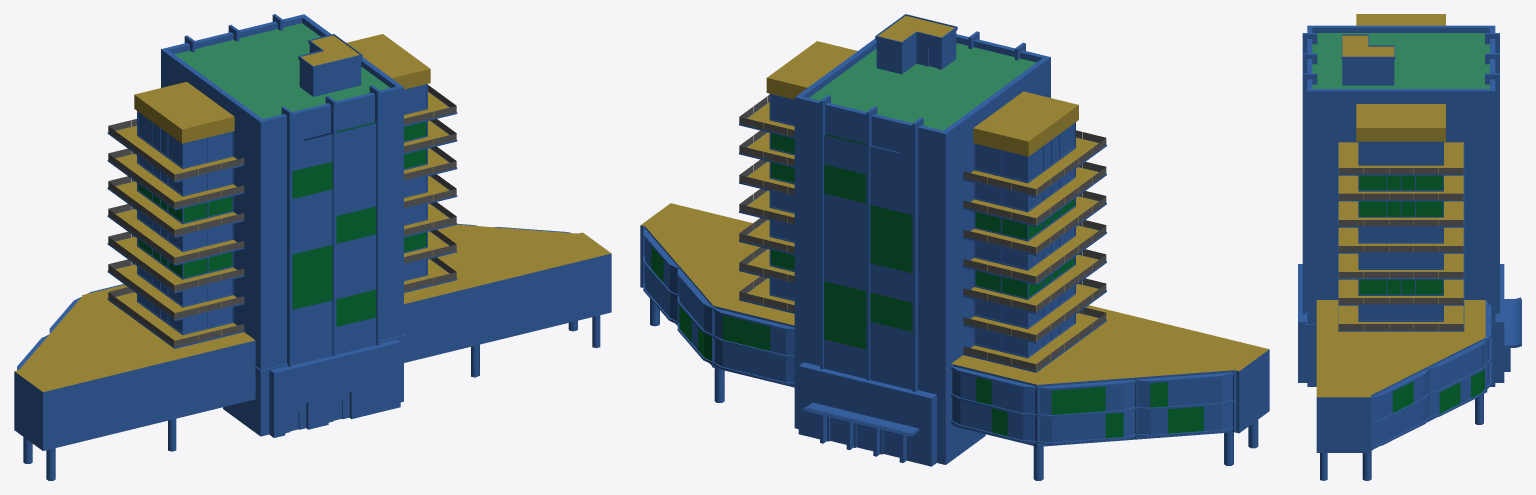
The model's file is mcp_building_01_LOD_1.FBX.
3 renders of one model, left to right at view 1: azimuth 30°, elevation 25°; view 2: azimuth 150°, elevation 25°; view 3: azimuth 270°, elevation 25°, orthographic. The views are drawn at different scales.
Parts seen in each view (by area): view 1: mcp_building_01, mcp_building_01_concrete, mcp_building_01_glass_02, mcp_building_01_rooftop; view 2: mcp_building_01, mcp_building_01_concrete, mcp_building_01_glass_02, mcp_building_01_rooftop; view 3: mcp_building_01, mcp_building_01_concrete, mcp_building_01_rooftop, mcp_building_01_glass_02.
Boxes of the visible parts, <box> form: mcp_building_01: <box>14,14,611,480</box>; mcp_building_01_concrete: <box>14,34,611,392</box>; mcp_building_01_glass_02: <box>108,85,456,347</box>; mcp_building_01_rooftop: <box>175,23,390,118</box>; mcp_building_01: <box>640,14,1269,480</box>; mcp_building_01_concrete: <box>641,15,1269,384</box>; mcp_building_01_glass_02: <box>739,95,1106,370</box>; mcp_building_01_rooftop: <box>809,43,1036,130</box>; mcp_building_01: <box>1298,25,1521,480</box>; mcp_building_01_concrete: <box>1316,14,1485,397</box>; mcp_building_01_rooftop: <box>1312,33,1489,88</box>; mcp_building_01_glass_02: <box>1338,168,1463,330</box>.
Bounding box in the file's own units: 9207 × 5250 × 3336.
